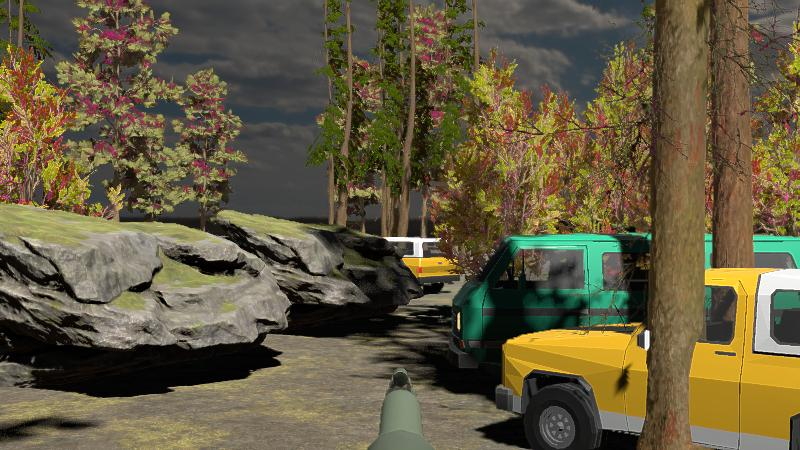car: (495, 264, 800, 449), (448, 231, 798, 375), (378, 234, 462, 295)
